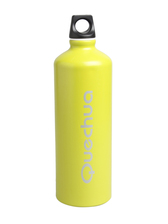other: (50, 13, 115, 207)
